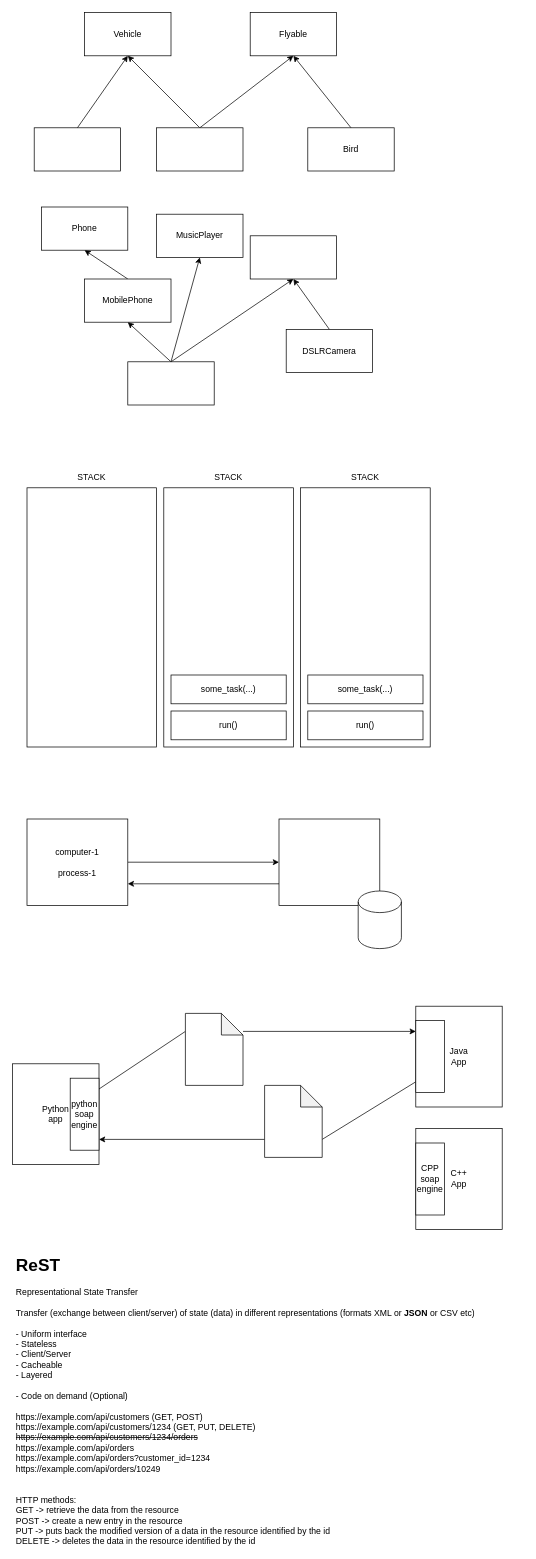
Some shapes in this 536 by 1559 pixel diagram are drawn without their labels. The shapes that lost their labels are listed below. From the top down, each one's centre as x and y in pixels, then its label:
At (77,149): "Car".
At (199,149): "Aeroplane".
At (293,257): "Camera".
At (170,383): "SmartPhone".
At (329,861): "computer-2 process-2".
At (214,1049): "xml SOAP request".
At (430,1056): "java soap engine".
At (293,1121): "xml SOAP response".
